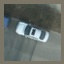car: (15, 16, 51, 45)
